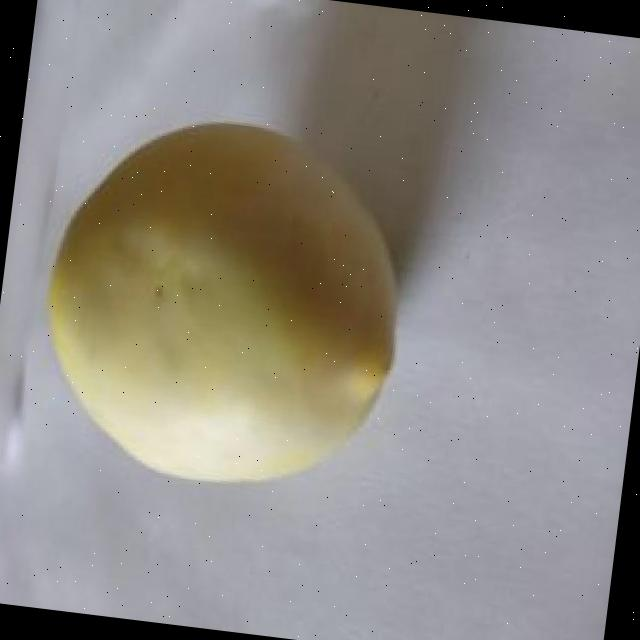tomato: (31, 104, 418, 498)
